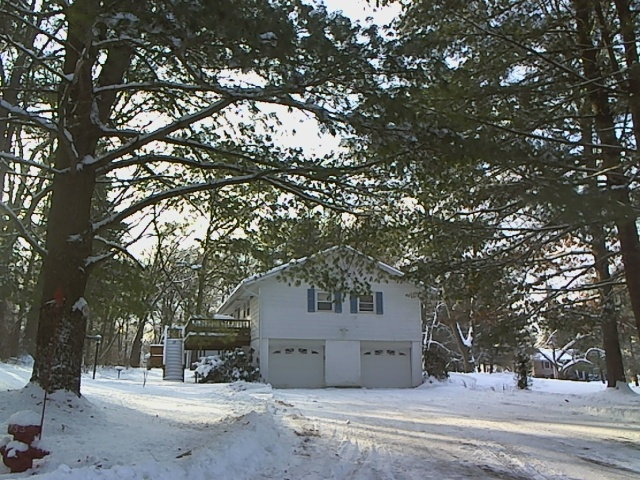Unploughed: (266, 378, 559, 475)
